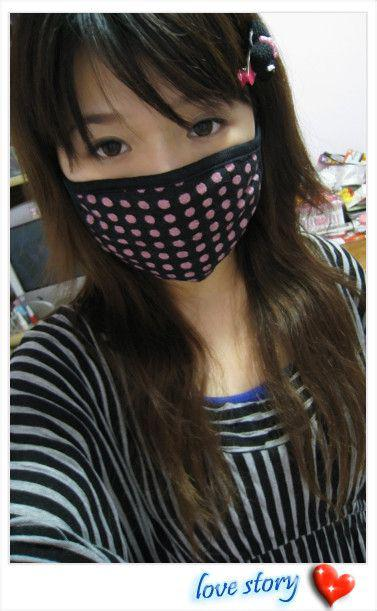OK: (62, 78, 273, 289)
